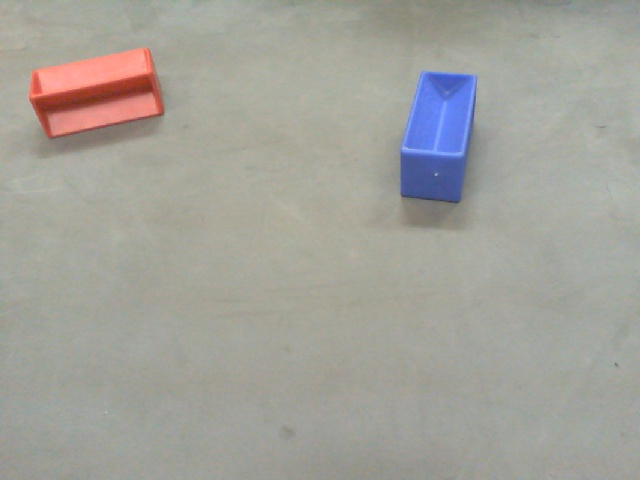BlueSample: (398, 64, 482, 203)
RedSample: (25, 46, 164, 142)
